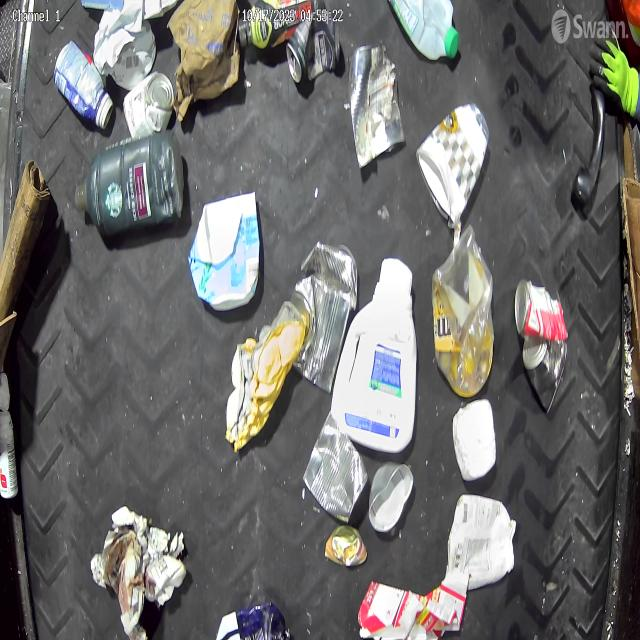can: (286, 241, 356, 391), (348, 44, 404, 168), (304, 421, 368, 522), (286, 9, 340, 84), (122, 70, 174, 139), (514, 277, 569, 342), (522, 340, 568, 413), (368, 461, 414, 534), (325, 526, 367, 569)
milk_jug: (335, 258, 419, 454), (385, 0, 460, 62)
